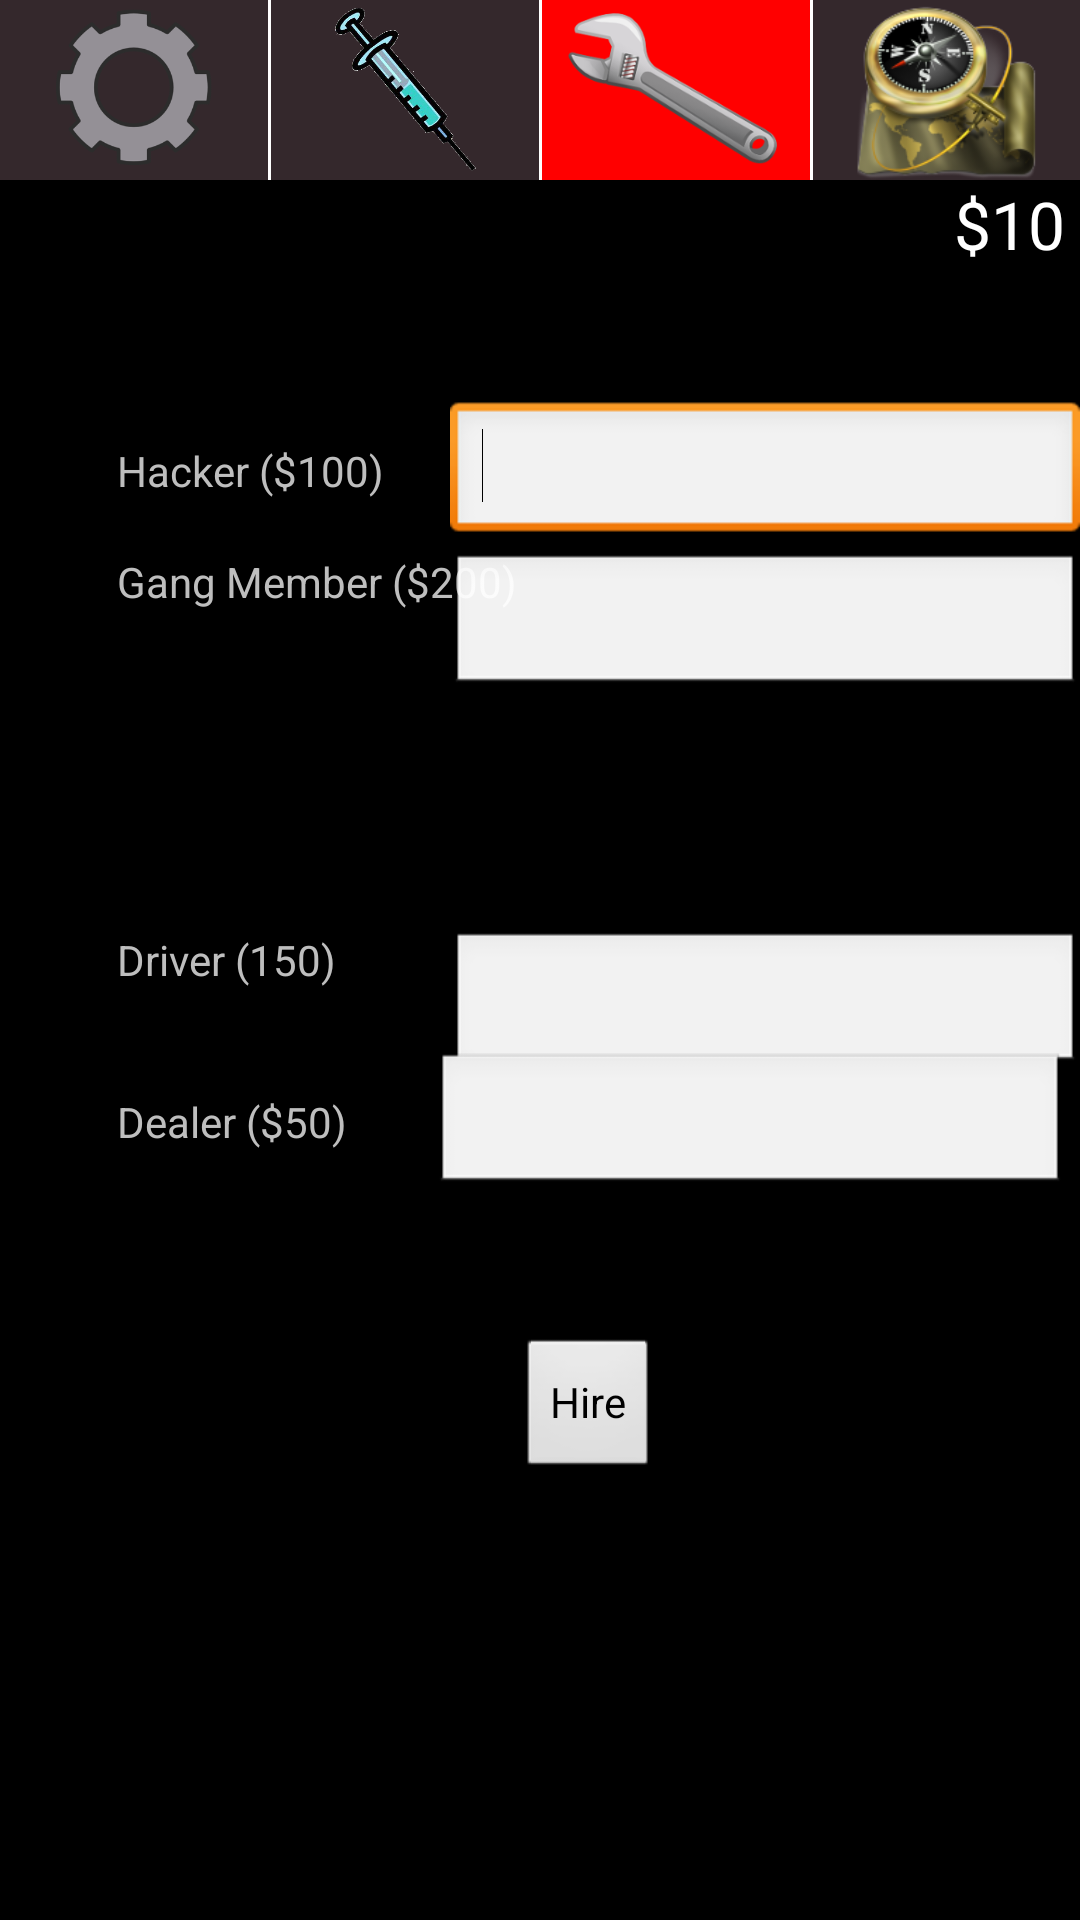

Screen size 1080x1920. Icon name, then its center in pixels as (x,y):
gear: (134,90)
map: (946,90)
syringe: (405,90)
wrench: (676,90)
